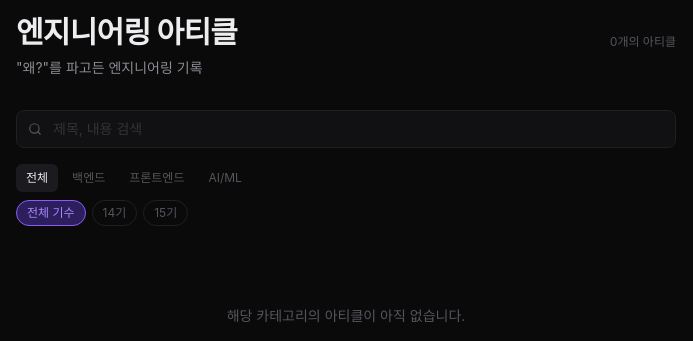
Test: ArticlesPage — #7 키워드 검색 › 결과 없을 때 빈 상태 메시지가 표시된다
Type "없는키워드" into the field with placeholder "제목, 내용 검색".
click(346, 129); type("없는키워드")  # box [16,110,676,148]
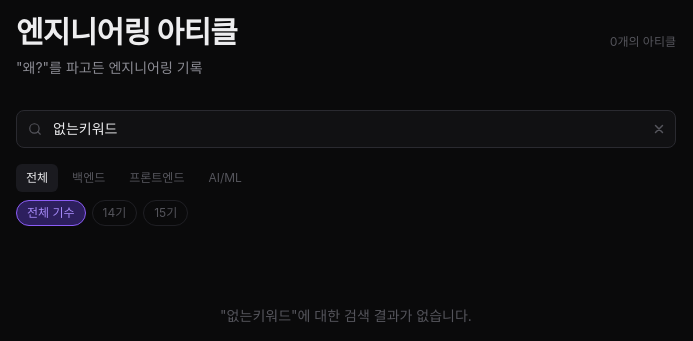
Expected: the text "\"없는키워드\"에 대한 검색 결과가 없습니다." is shown, [220,307,472,324]
